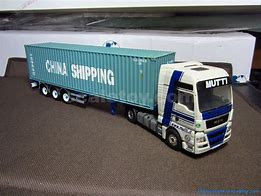bigtruck: (22, 28, 241, 160)
